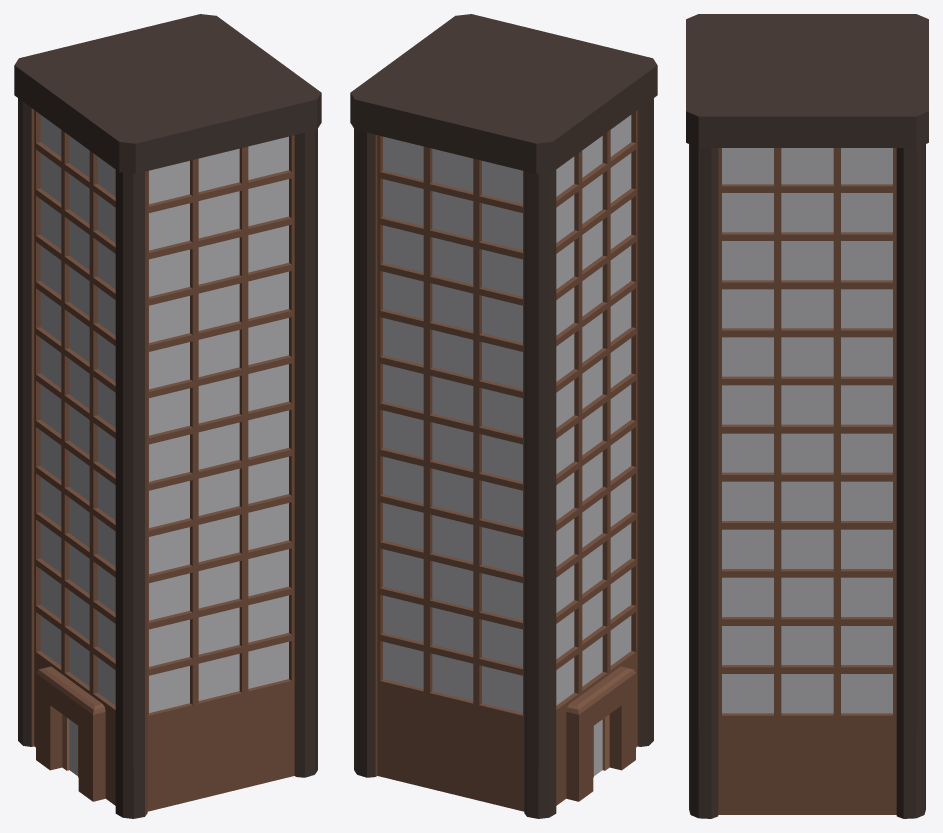
The model's file is skyscraperD.fbx.
The picture shows the model from 3 angles, left to right: view 1: azimuth 30°, elevation 25°; view 2: azimuth 150°, elevation 25°; view 3: azimuth 270°, elevation 25°; orthographic projection. The views are drawn at different scales.
Parts seen in each view (by area): view 1: SkyscraperD; view 2: SkyscraperD; view 3: SkyscraperD.
Boxes of the visible parts, x1,y1,x2,y2 form: SkyscraperD: (14,14,321,818); SkyscraperD: (350,14,657,818); SkyscraperD: (686,14,928,818).
Size of the model in its own units: 676 by 2136 by 668.
